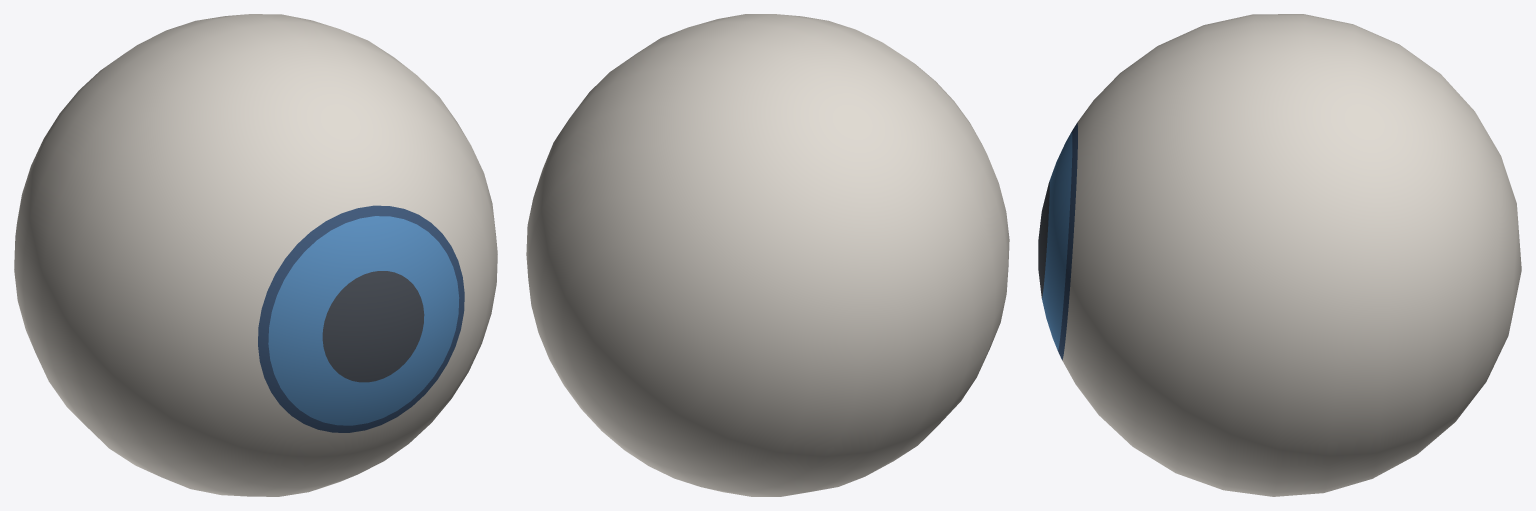
File: dal-giant-eye.glb
3 views of the same model, side by side, from view 1: azimuth 30°, elevation 25°; view 2: azimuth 150°, elevation 25°; view 3: azimuth 270°, elevation 25° (orthographic).
Visible parts, largest first — view 1: Eye; view 2: Eye; view 3: Eye.
Part boxes in pixels (x1=…): Eye: x1=14, y1=14, x2=497, y2=496; Eye: x1=526, y1=14, x2=1009, y2=496; Eye: x1=1038, y1=14, x2=1521, y2=496.
Bounding box in the file's own units: 9.13 × 9.11 × 9.12.
